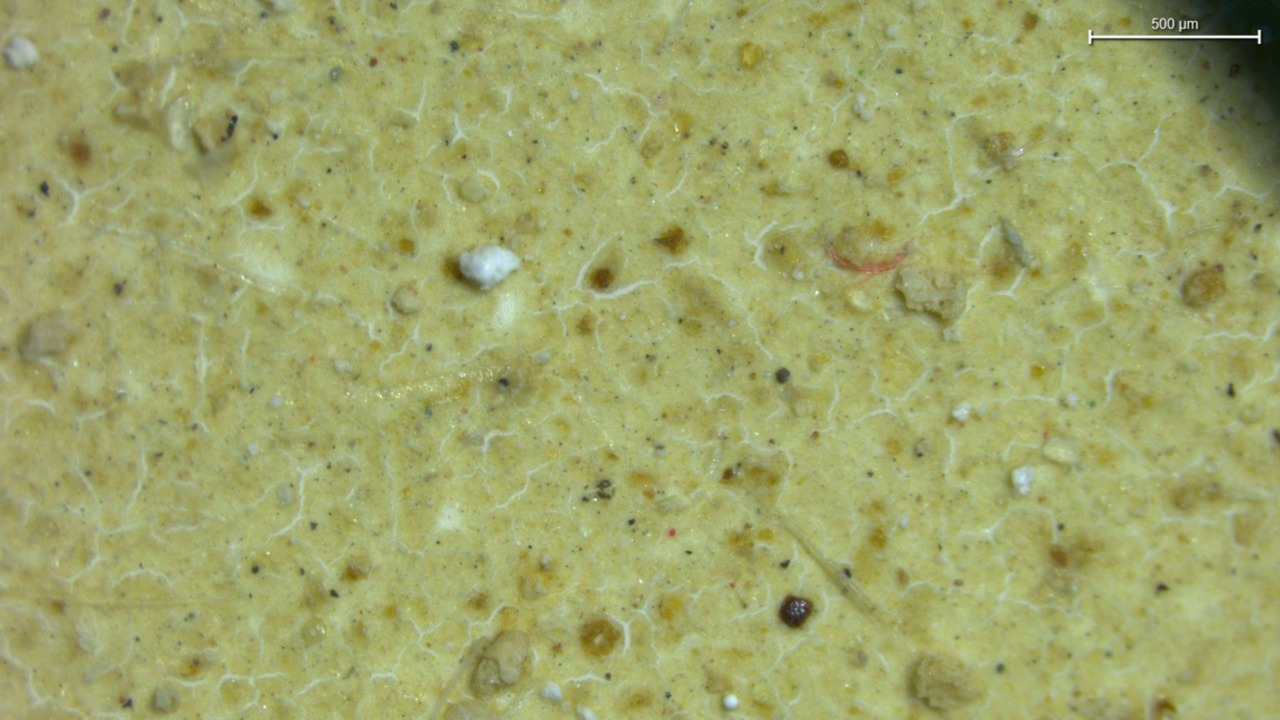microplastic_fragment: (917, 655, 989, 713), (897, 268, 967, 326), (476, 633, 528, 696), (460, 244, 523, 291), (1011, 462, 1034, 499), (8, 41, 39, 67)
